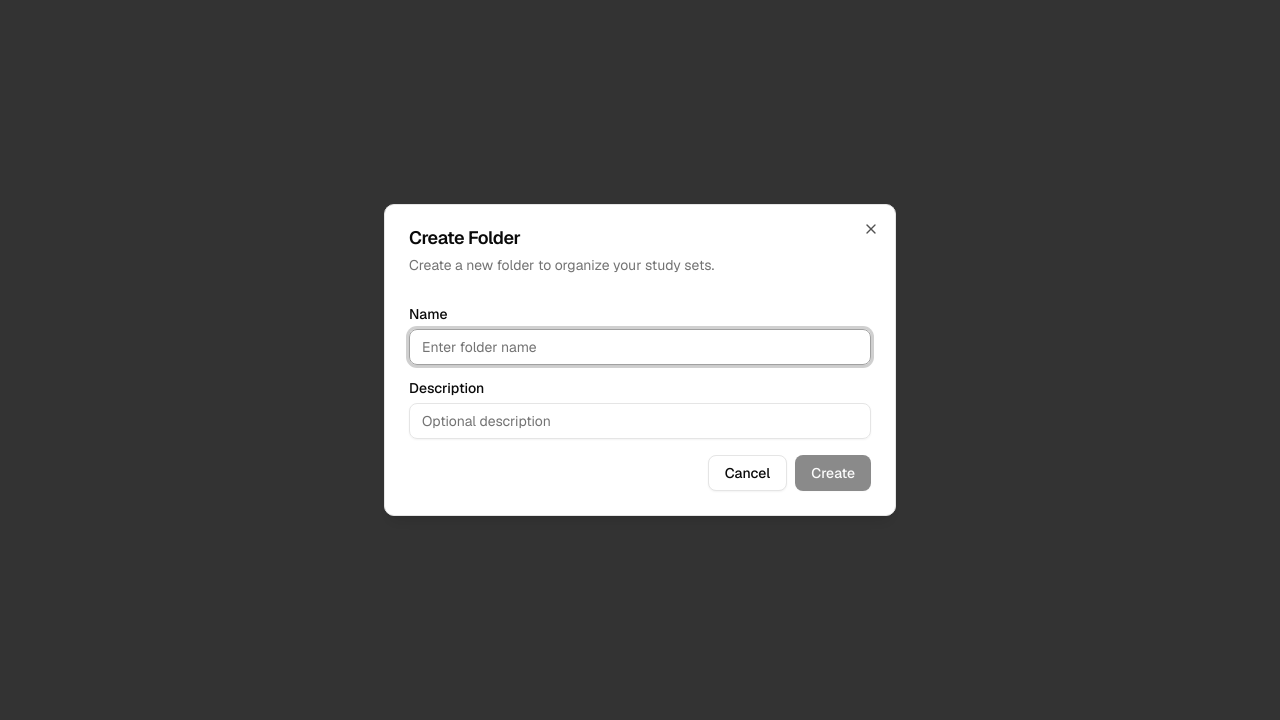
Test: CreateFolderModal › form submission › shows error message when submission fails
This screenshot has width=1280, height=720.
Type "My Folder" into the field labelled "Name" at coordinates (640, 347), box top-left (409, 329), bottom-right (871, 365)
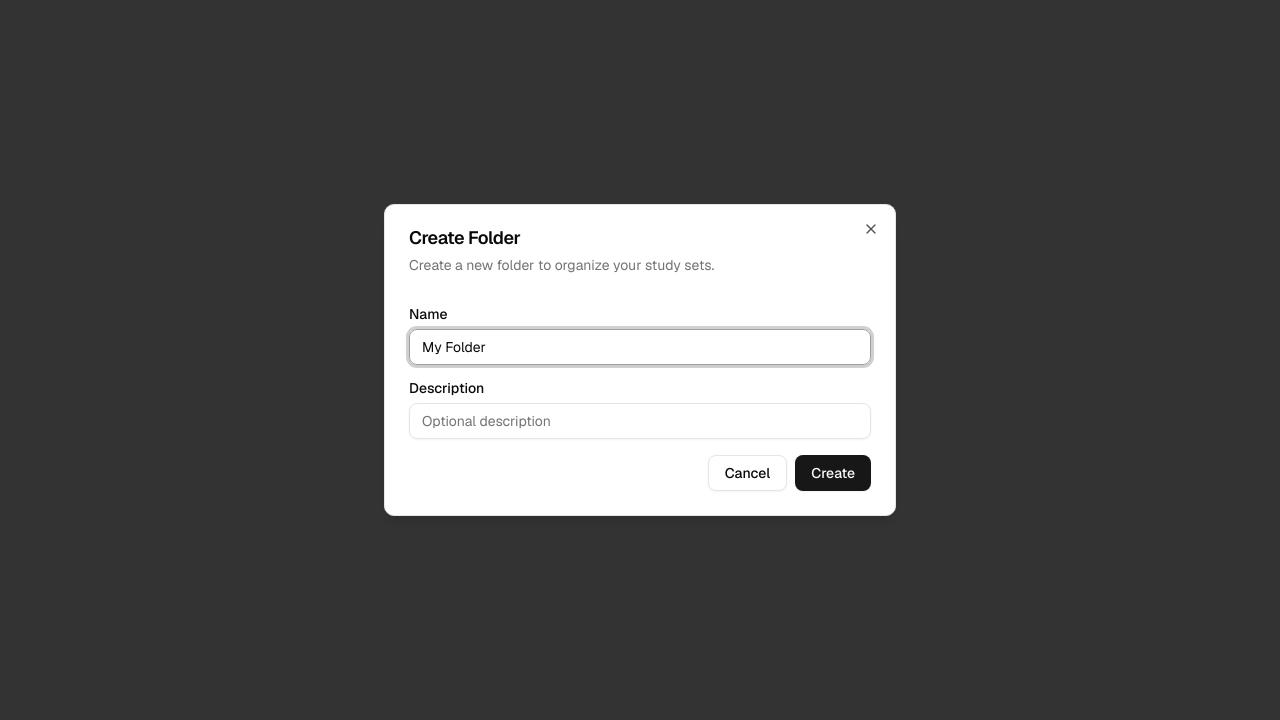
Click the button "Create" at coordinates (833, 473), box top-left (795, 455), bottom-right (871, 491)
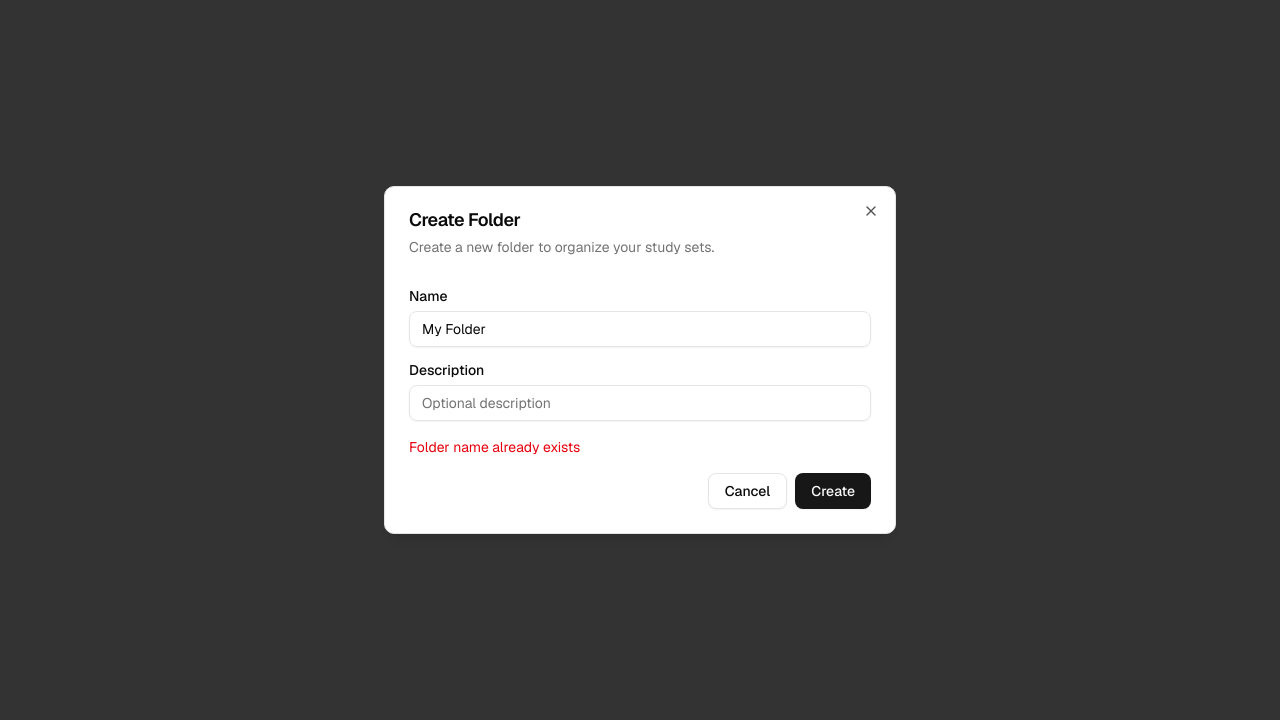
Expected: the text "Folder name already exists" is shown, top-left (409, 438), bottom-right (580, 456)
